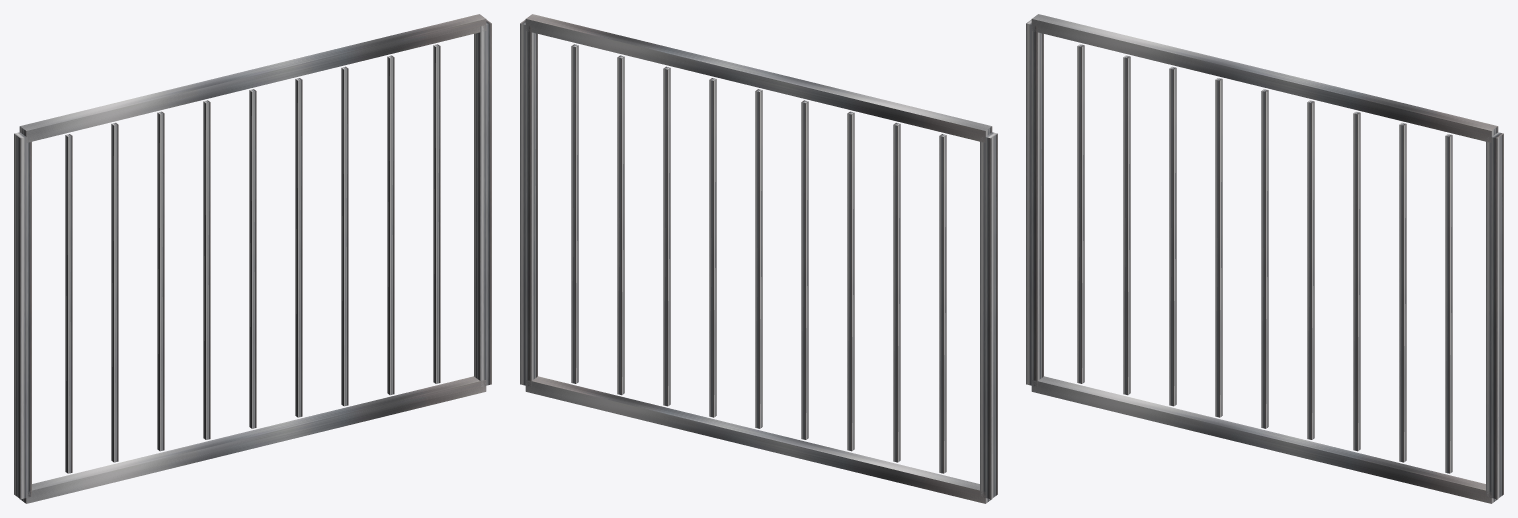
The model's file is porton.gltf.
3 views of the same model, side by side, from view 1: azimuth 30°, elevation 25°; view 2: azimuth 150°, elevation 25°; view 3: azimuth 330°, elevation 25° (orthographic).
Parts seen in each view (by area): view 1: porton; view 2: porton; view 3: porton.
Boxes of the visible parts, x1,y1,x2,y2 form: porton: (14, 14, 491, 503); porton: (520, 14, 997, 503); porton: (1026, 14, 1503, 503).
Size of the model in its own units: 2.05 by 1.55 by 0.05.
14 materials, 14 textured.
